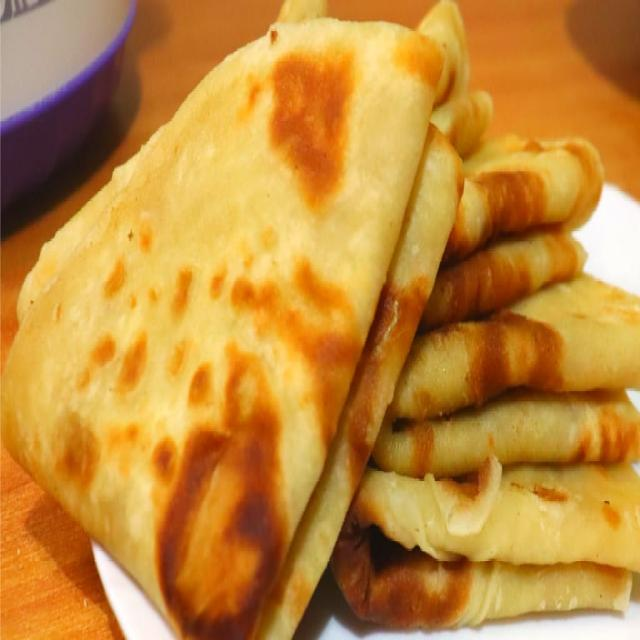chapathi: (1, 4, 473, 640)
